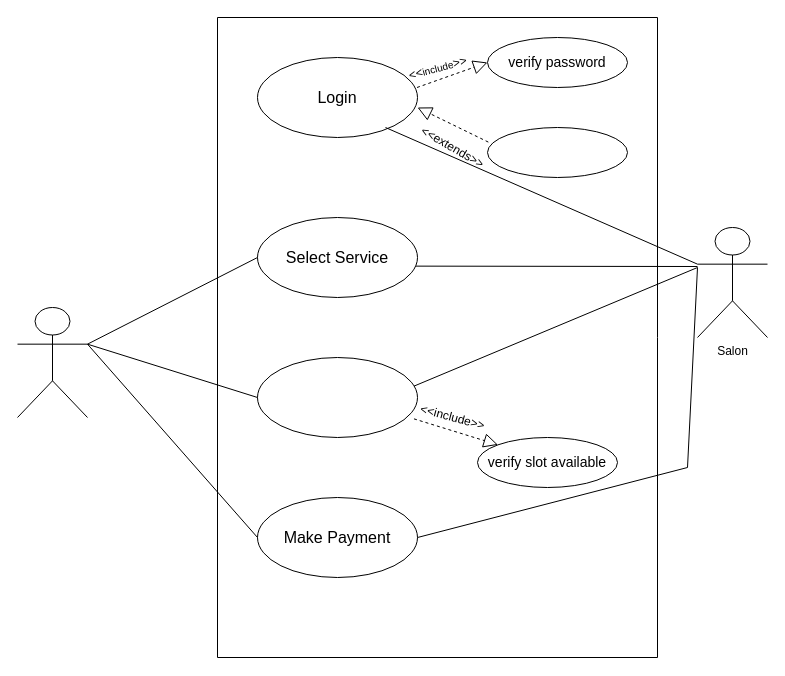
Some shapes in this 785 by 676 pixel diagram are drawn without their labels. Here are the shapes that lost their labels. From the top down, the box of each, then its label:
(486, 126, 628, 178): Display Login Error
(16, 306, 88, 418): Customer
(256, 356, 418, 438): Book Appointment
